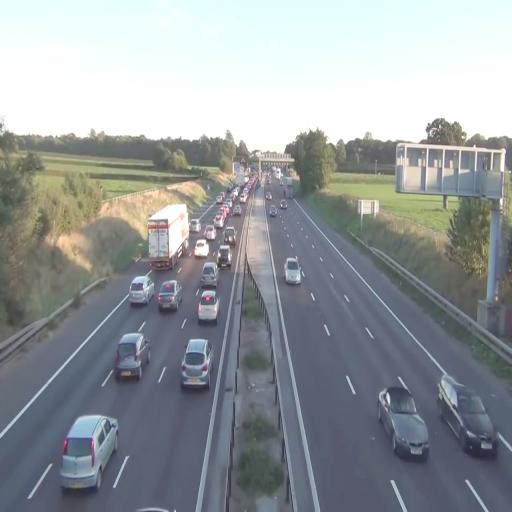vehicle: (438, 375, 498, 458), (60, 414, 119, 492), (377, 380, 430, 462), (146, 204, 190, 270), (115, 329, 152, 377), (180, 338, 212, 388), (114, 332, 144, 381), (196, 287, 219, 324), (157, 278, 182, 312), (128, 276, 154, 308), (284, 257, 302, 284), (202, 261, 218, 287), (216, 245, 232, 269), (194, 240, 210, 258), (268, 206, 278, 220)
